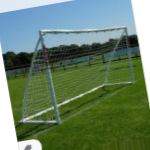goals: (21, 25, 135, 124)
